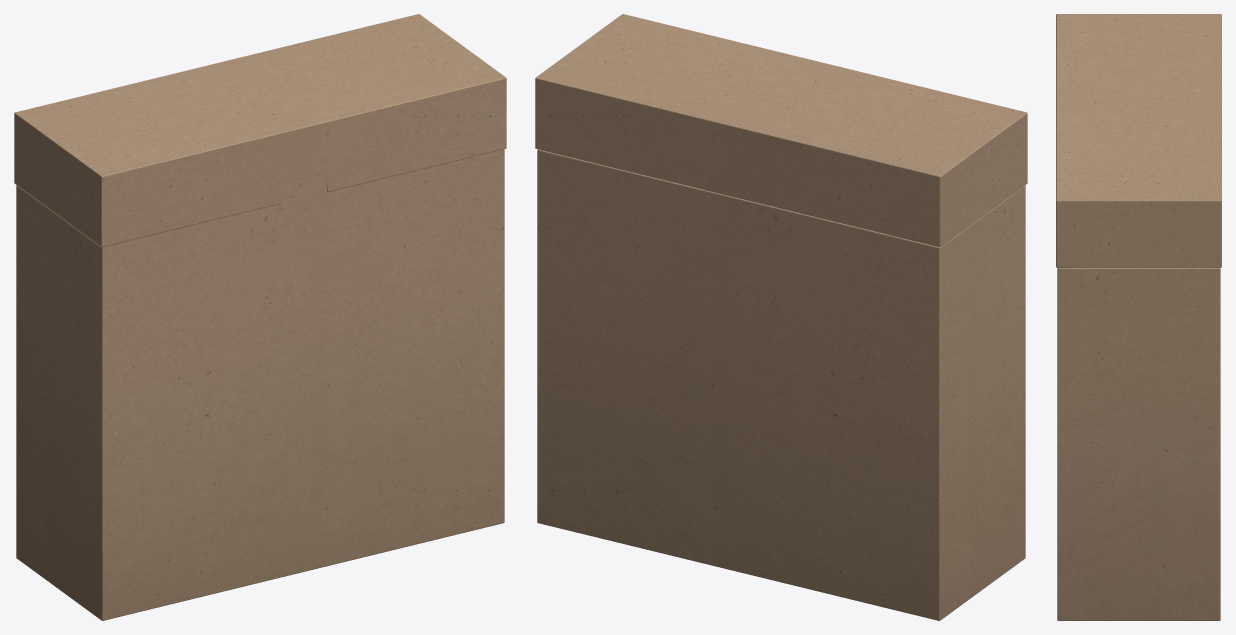
The model's file is anim-pr15-std.glb.
The picture shows the model from 3 angles, left to right: view 1: azimuth 30°, elevation 25°; view 2: azimuth 150°, elevation 25°; view 3: azimuth 270°, elevation 25°; orthographic projection. The views are drawn at different scales.
Parts seen in each view (by area): view 1: p15s_b, p15s_l; view 2: p15s_b, p15s_l; view 3: p15s_b, p15s_l.
Boxes of the visible parts, left/top/right/bottom form: p15s_b: left=16, top=149, right=504, bottom=620; p15s_l: left=14, top=14, right=506, bottom=247; p15s_b: left=537, top=149, right=1025, bottom=620; p15s_l: left=535, top=14, right=1027, bottom=247; p15s_b: left=1057, top=267, right=1220, bottom=620; p15s_l: left=1056, top=14, right=1221, bottom=267.
Size of the model in its own units: 0.1192 by 0.1252 by 0.0447.
2 materials, 1 textured.
